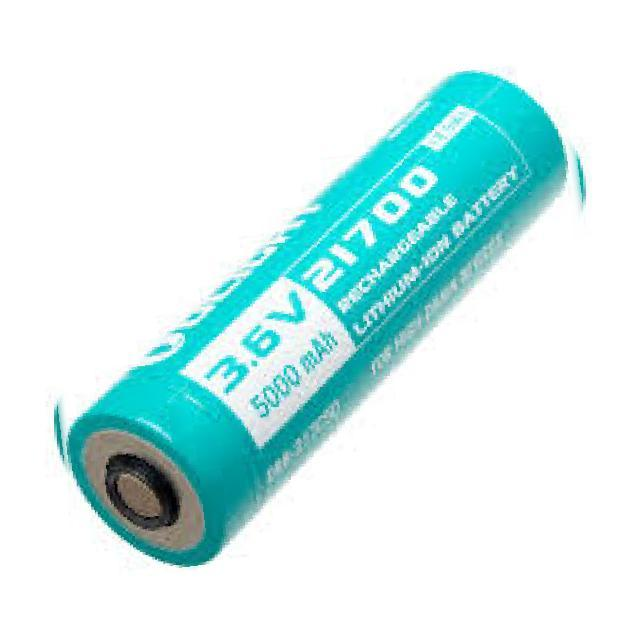Battery: (66, 66, 572, 568)
